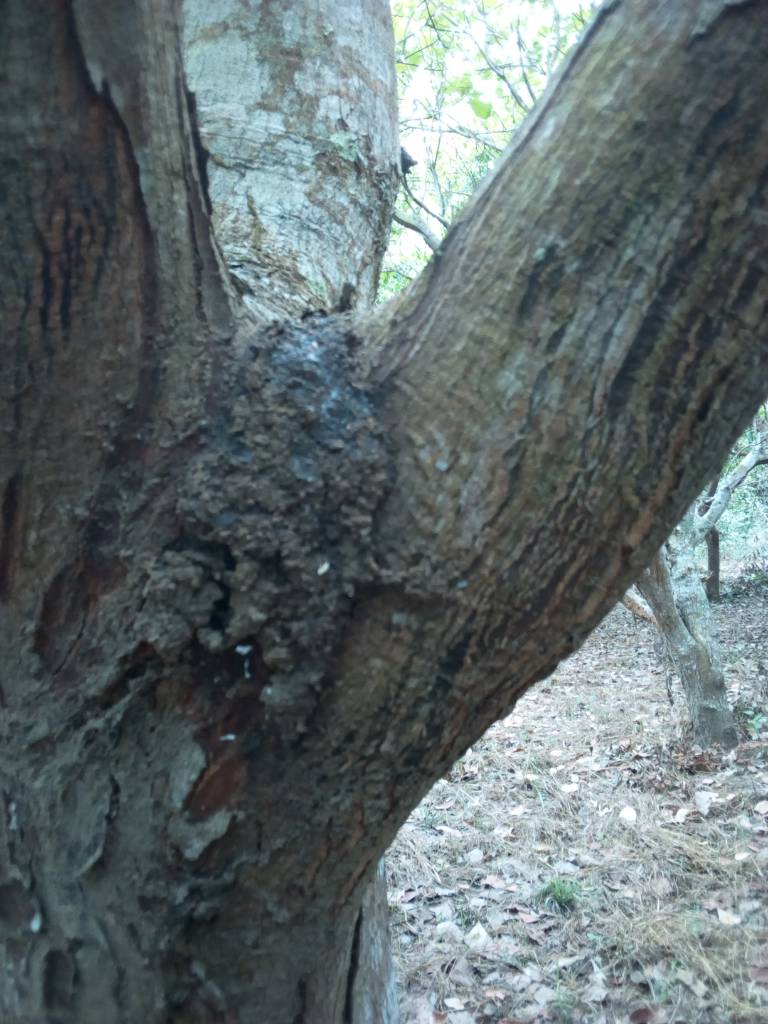Termites: (146, 313, 375, 714), (579, 442, 691, 603)
